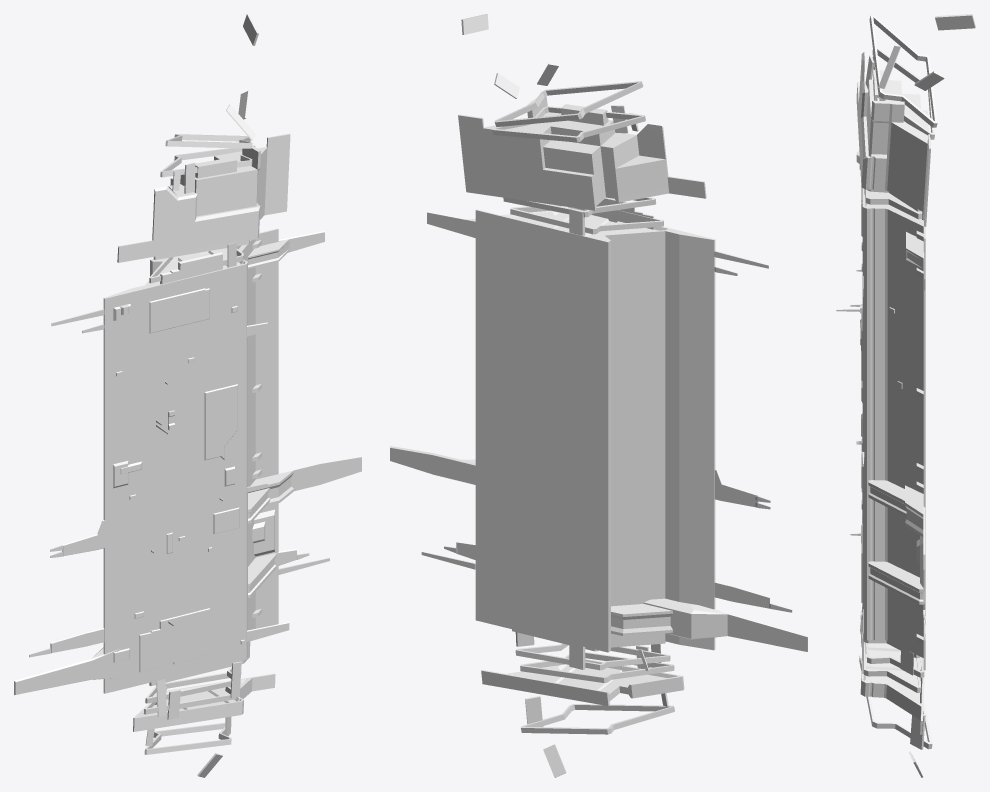
The model's file is duzumi_hq_structure_05.glb.
3 views of the same model, side by side, from view 1: azimuth 30°, elevation 25°; view 2: azimuth 150°, elevation 25°; view 3: azimuth 270°, elevation 25° (orthographic). The views are drawn at different scales.
Visible parts, largest first — view 1: gate_str_004; view 2: gate_str_004; view 3: gate_str_004.
Boxes of the visible parts, bbox=[...] form: gate_str_004: bbox=[14, 14, 361, 777]; gate_str_004: bbox=[390, 14, 807, 777]; gate_str_004: bbox=[836, 14, 975, 777].
Size of what is drawn, in the model's own units: 51.69 by 96.3 by 15.25.
1 material, 1 textured.
